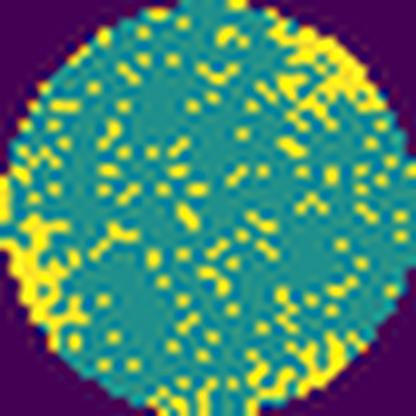Edge-Loc: (268, 19, 388, 130), (0, 216, 91, 349), (290, 328, 358, 401)
